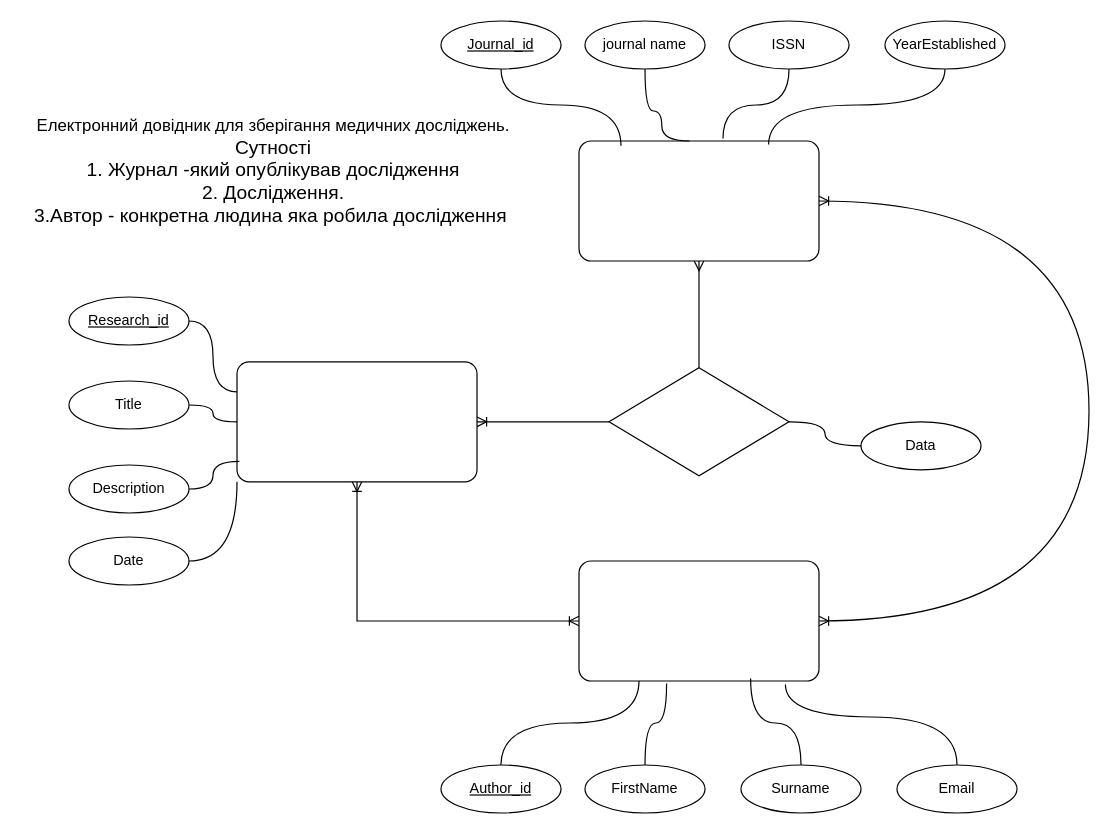
Some shapes in this 1110 by 834 pixel diagram are drawn without their labels. Here are the shapes that lost their labels. From the top down, the centre of each, then its label:
point 698,200: Journal
point 356,421: Research
point 698,421: Publication
point 698,620: Author
